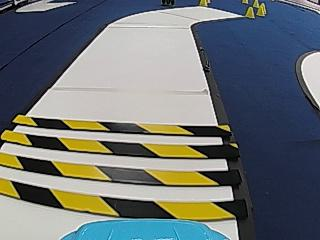bump: (4, 110, 241, 214)
